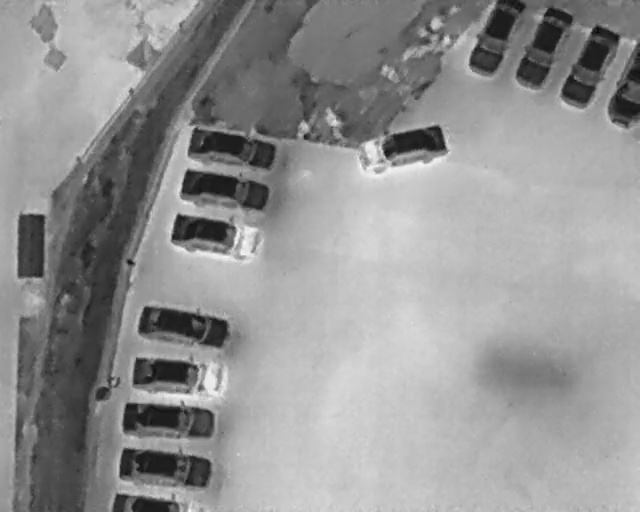Car: (548, 16, 629, 119), (508, 0, 579, 98), (353, 117, 452, 180), (164, 206, 266, 266), (173, 163, 275, 219), (133, 299, 232, 356), (114, 441, 215, 494), (183, 121, 281, 175), (128, 351, 226, 401), (119, 396, 217, 444), (468, 0, 526, 78), (606, 36, 639, 133), (110, 491, 191, 510)
